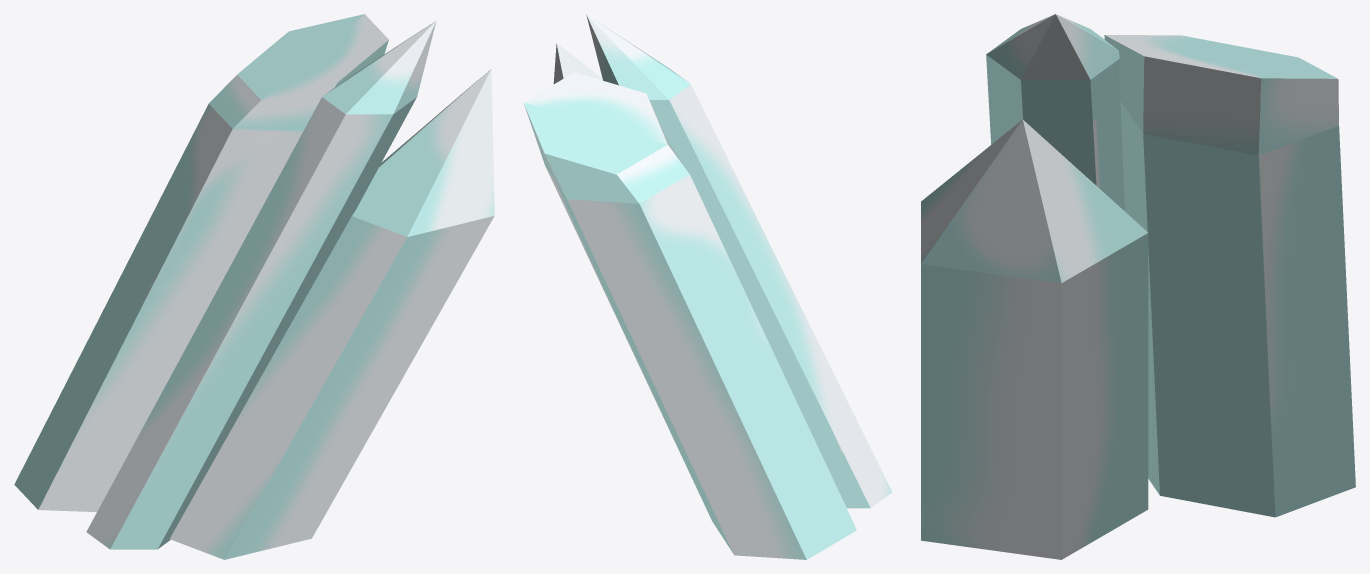
Rendered from gelo-1.fbx.
The picture shows the model from 3 angles, left to right: view 1: azimuth 30°, elevation 25°; view 2: azimuth 150°, elevation 25°; view 3: azimuth 270°, elevation 25°; orthographic projection. The views are drawn at different scales.
Parts seen in each view (by area): view 1: gelo-1; view 2: gelo-1; view 3: gelo-1.
Boxes of the visible parts, x1,y1,x2,y2 form: gelo-1: (14, 14, 494, 559); gelo-1: (523, 14, 892, 559); gelo-1: (921, 14, 1355, 559).
Bounding box in the file's own units: 96.11 × 106 × 63.23.
